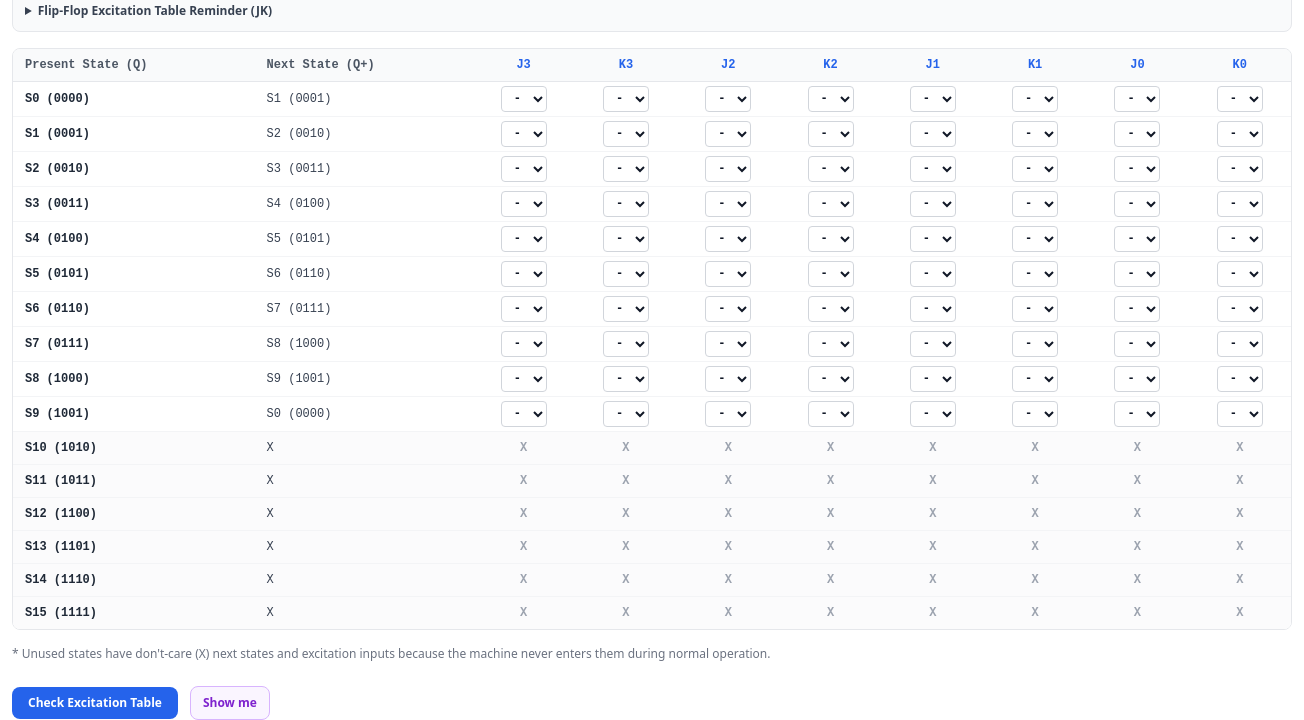
it: ExcitationTableEditor component › fills table and marks assisted when Show me is clicked
(page scrolled)
Click the button "Show me".
click(230, 703)  # box [190,686,270,719]
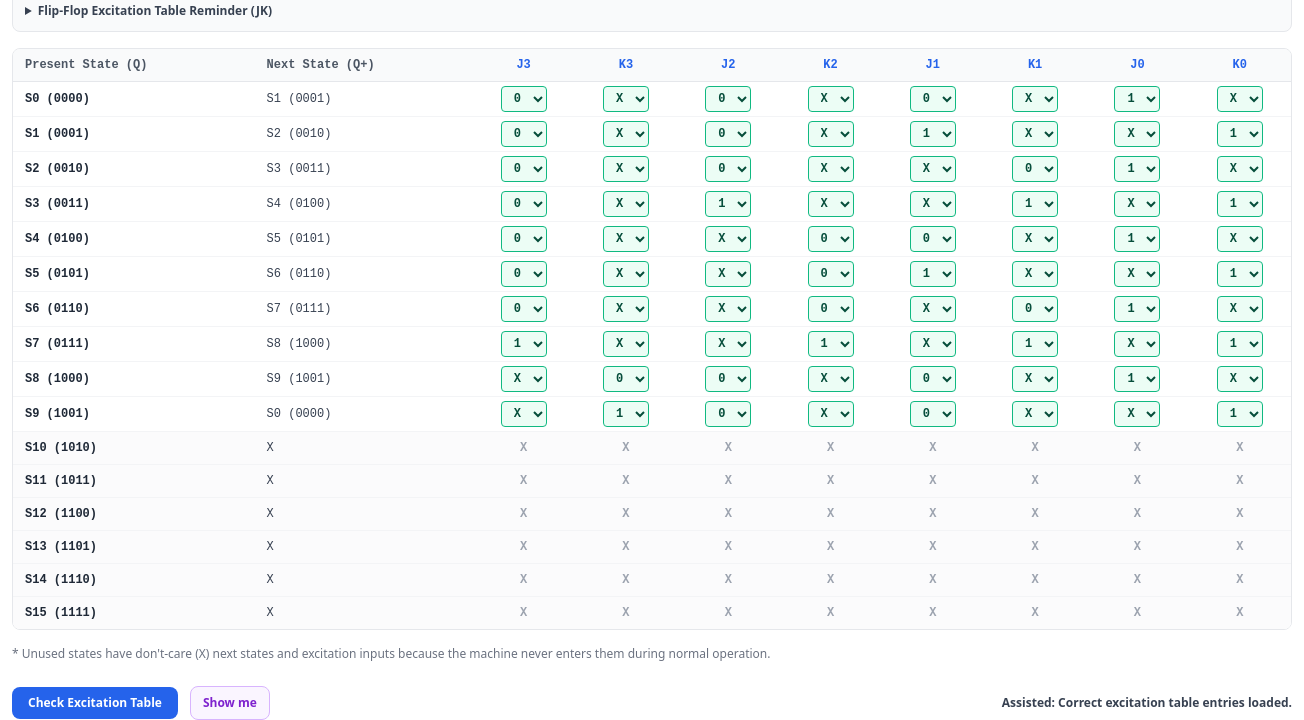
Now the text "Assisted: Correct excitation table entries loaded." is shown, box [1002,695,1292,711]
